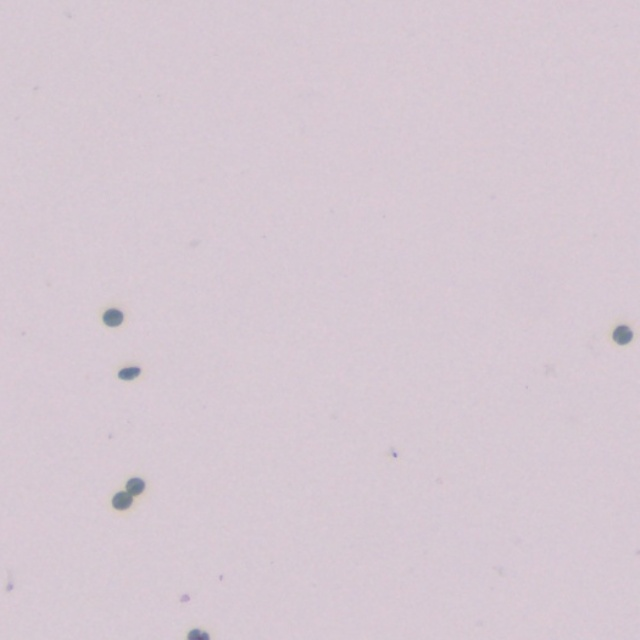non_viable: (612, 325, 632, 344), (103, 308, 122, 326), (113, 492, 131, 507), (118, 367, 139, 379), (188, 629, 209, 640), (127, 479, 142, 493)
